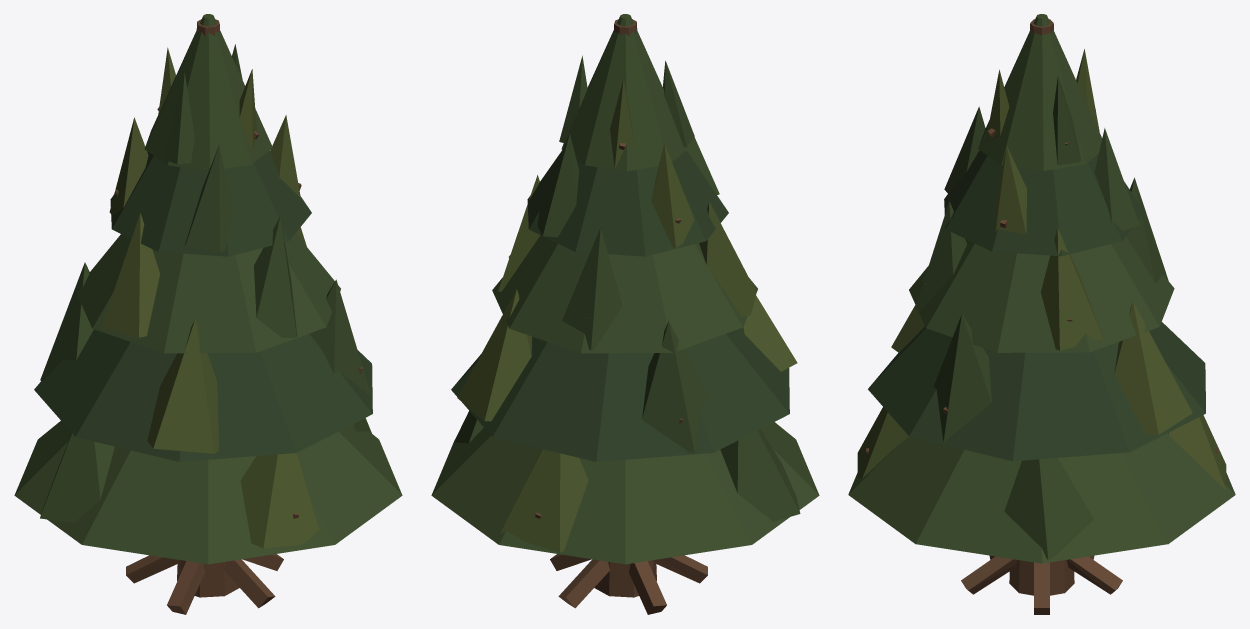
Rendered from tree_pine.glb.
3 renders of one model, left to right at view 1: azimuth 30°, elevation 25°; view 2: azimuth 150°, elevation 25°; view 3: azimuth 270°, elevation 25°, orthographic.
Parts seen in each view (by area): view 1: Foliage, Timber; view 2: Foliage, Timber; view 3: Foliage, Timber.
Boxes of the visible parts, left/top/right/bottom form: Foliage: left=14, top=14, right=402, bottom=564; Timber: left=115, top=19, right=362, bottom=614; Foliage: left=431, top=14, right=819, bottom=564; Timber: left=509, top=19, right=707, bottom=614; Foliage: left=848, top=14, right=1235, bottom=563; Timber: left=866, top=19, right=1217, bottom=614.
Size of the model in its own units: 3.51 by 5.57 by 3.45.
